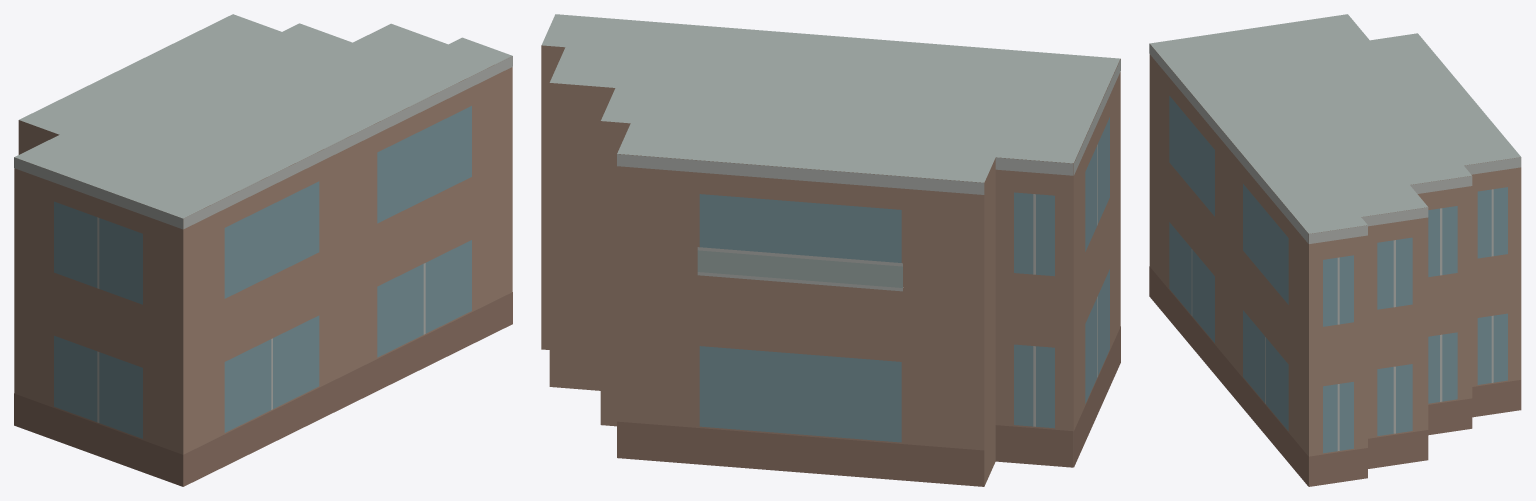
The model's file is survey-upis-32975219.glb.
The picture shows the model from 3 angles, left to right: view 1: azimuth 30°, elevation 25°; view 2: azimuth 150°, elevation 25°; view 3: azimuth 270°, elevation 25°; orthographic projection. The views are drawn at different scales.
Parts seen in each view (by area): view 1: survey-upis-32975219.tmp; view 2: survey-upis-32975219.tmp; view 3: survey-upis-32975219.tmp.
Part boxes in pixels (box(x1,y1,x2,y2)): survey-upis-32975219.tmp: box(14, 14, 512, 486); survey-upis-32975219.tmp: box(541, 14, 1120, 486); survey-upis-32975219.tmp: box(1149, 14, 1521, 486).
Bounding box in the file's own units: 10.26 × 5.5 × 7.34.
